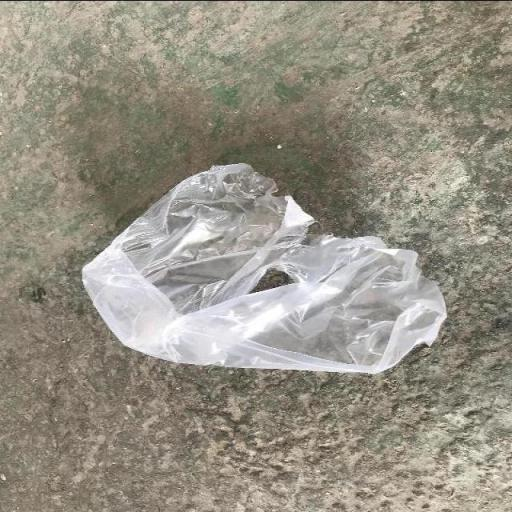plastic-bag: (78, 159, 449, 378)
